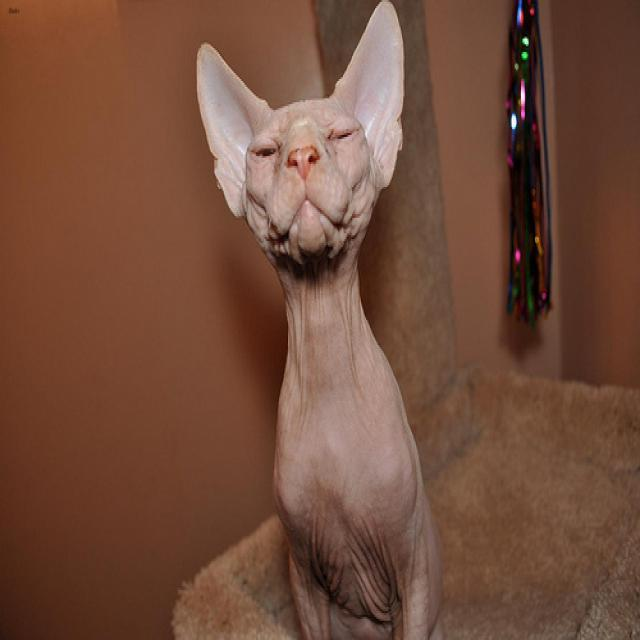Sphynx: (192, 0, 408, 270)
